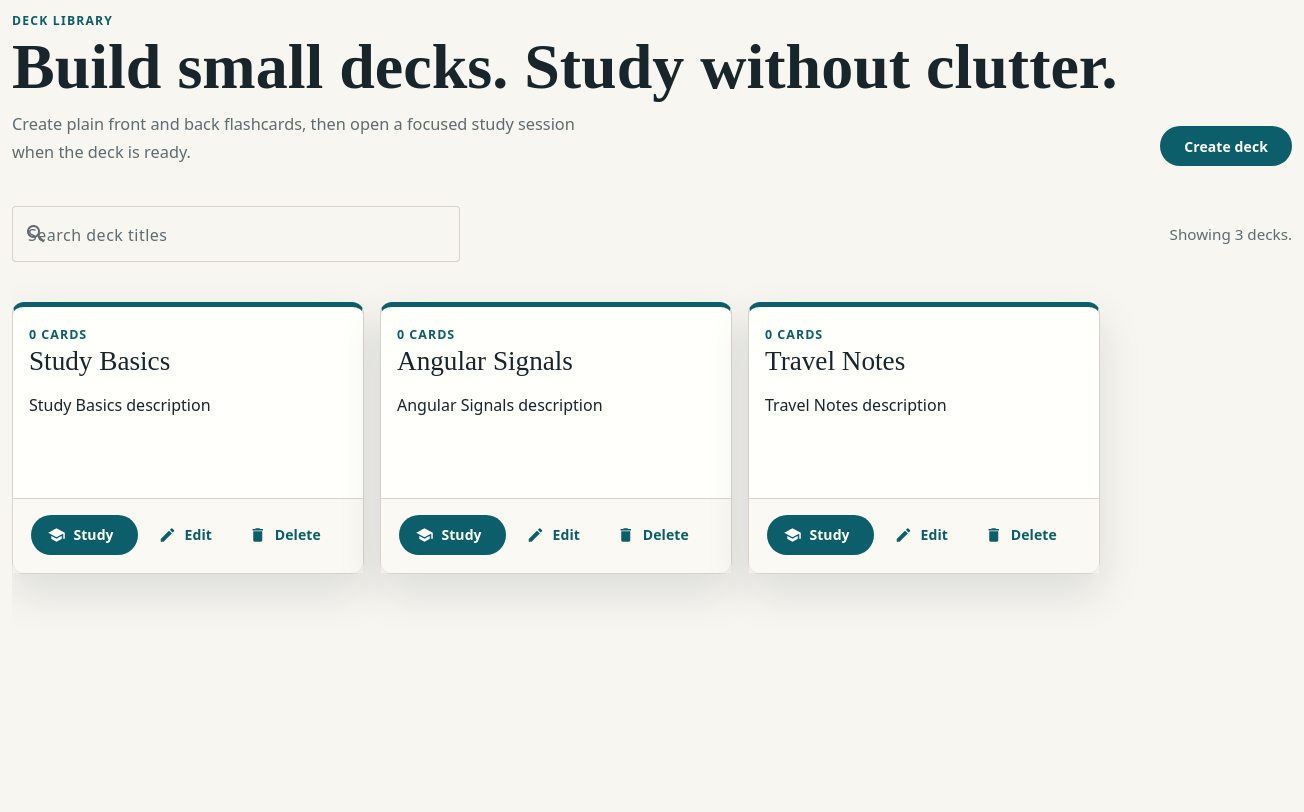
Test: DeckLibrary › shows no matching decks instead of the empty library state for unmatched searches
The image size is (1304, 812).
Type "biology" into the search field with id "deck-title-search" at x=254, y=234, box [64,222,444,246]
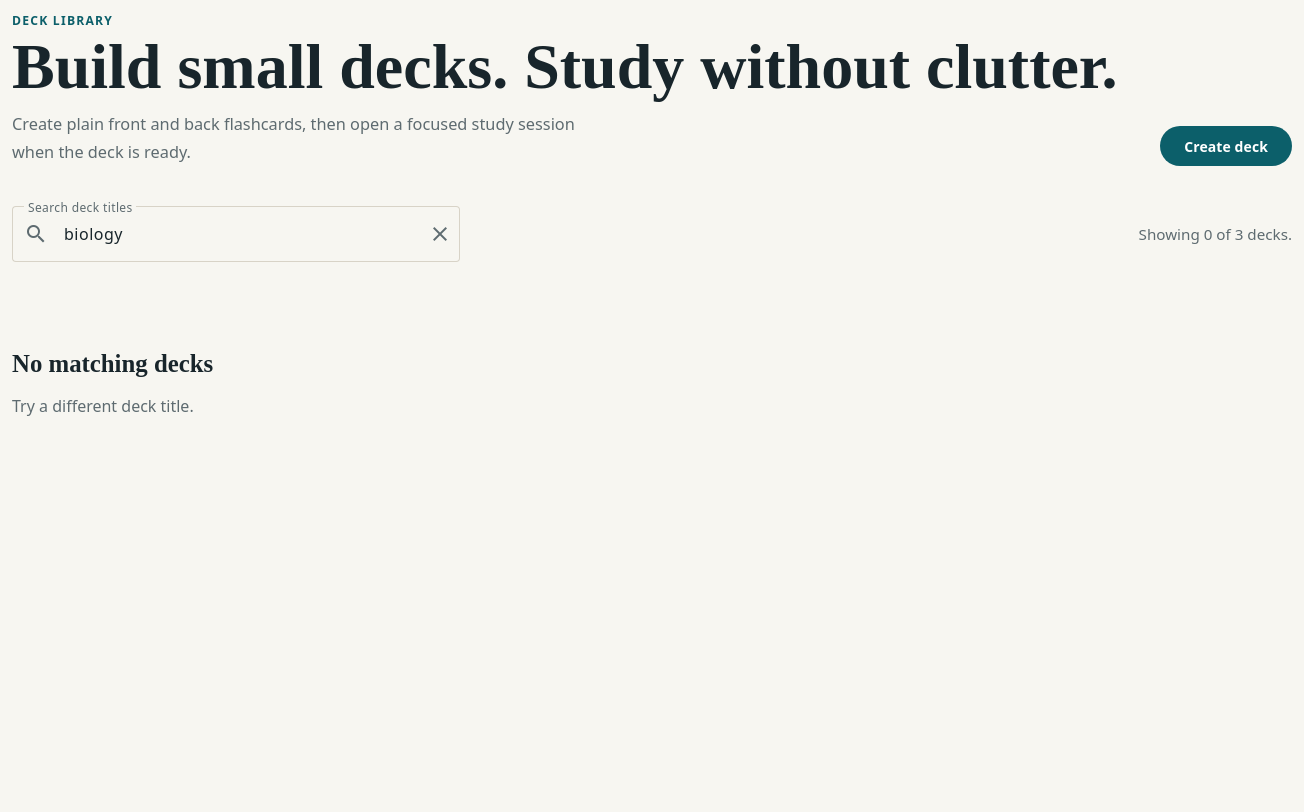
Expected: the text "No matching decks" is shown, [12,350,213,377]
Expected: no elements with class "deck-card" are shown
